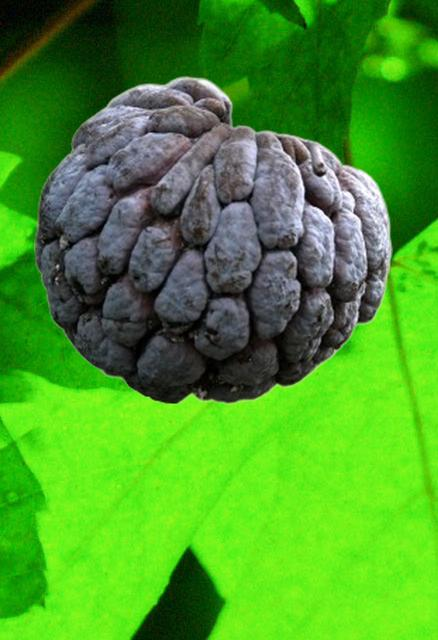atis: (34, 75, 391, 403)
